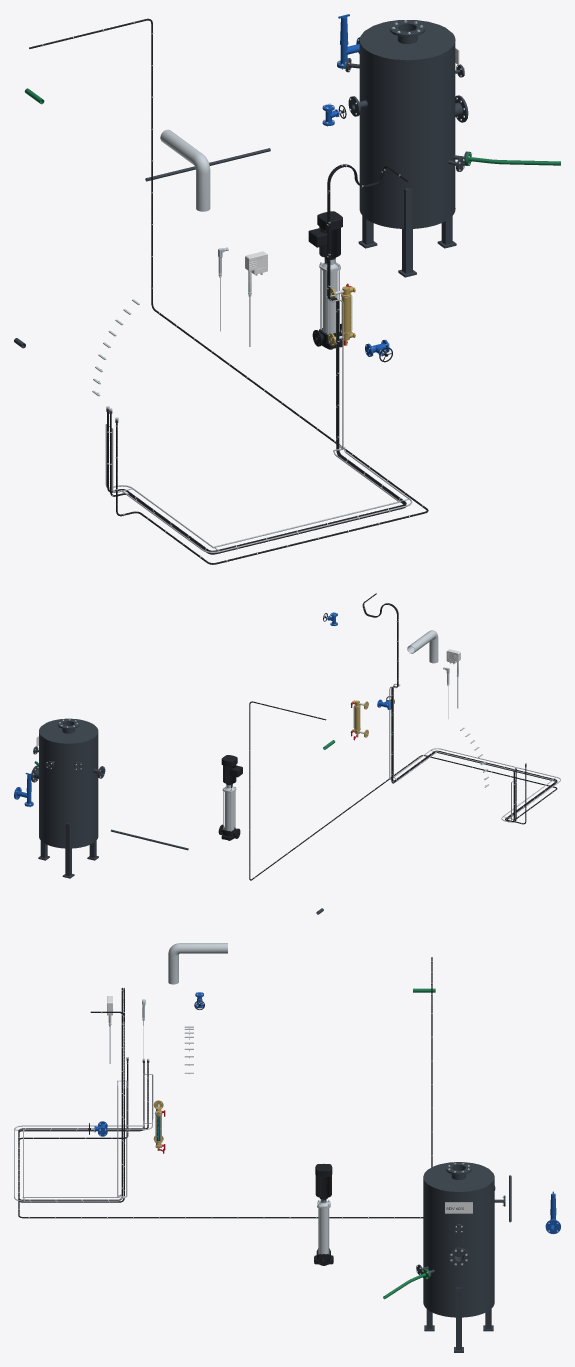
The picture shows the model from 3 angles, top to bottom: view 1: azimuth 30°, elevation 25°; view 2: azimuth 150°, elevation 25°; view 3: azimuth 270°, elevation 25°; orthographic projection. The views are drawn at different scales.
Visible parts, largest first — view 1: separator_bdv60_5 / dark, mod_direct_drive_cable / black, cables / zinc, wiring_pressure_switch_2 / black, wiring_pressure_switch_1 / black, steam_rise / steel, pump_2 CAD solid 15, sight_glasses_2 / sight_glasses_2_0.npz, pump_2 CAD solid 2; view 2: separator_bdv60_5 / dark, mod_direct_drive_cable / black, cables / zinc, wiring_pressure_switch_2 / black, wiring_pressure_switch_1 / black, steam_rise / steel, pump_2 CAD solid 15; view 3: separator_bdv60_5 / dark, cables / zinc, mod_direct_drive_cable / black, wiring_pressure_switch_2 / black, steam_rise / steel, wiring_pressure_switch_1 / black, pump_2 CAD solid 15.
Part boxes in pixels (x1,y1,x2,y2): separator_bdv60_5 / dark: (345,20,468,277); mod_direct_drive_cable / black: (29,18,428,564); cables / zinc: (105,295,412,553); wiring_pressure_switch_2 / black: (107,165,406,551); wiring_pressure_switch_1 / black: (110,164,407,554); steam_rise / steel: (160,129,210,211); pump_2 CAD solid 15: (308,211,342,258); sight_glasses_2 / sight_glasses_2_0.npz: (328,283,355,346); pump_2 CAD solid 2: (322,270,337,333); separator_bdv60_5 / dark: (31,718,105,878); mod_direct_drive_cable / black: (249,701,557,880); cables / zinc: (389,683,560,822); wiring_pressure_switch_2 / black: (363,600,557,821); wiring_pressure_switch_1 / black: (362,593,557,822); steam_rise / steel: (407,630,438,663); pump_2 CAD solid 15: (221,755,242,784); separator_bdv60_5 / dark: (416,1162,505,1352); cables / zinc: (14,1074,153,1201); mod_direct_drive_cable / black: (18,957,432,1218); wiring_pressure_switch_2 / black: (18,988,148,1200); steam_rise / steel: (168,943,227,984); wiring_pressure_switch_1 / black: (18,988,144,1202); pump_2 CAD solid 15: (315,1164,332,1198).
Bounding box in the file's own units: 5.7 × 2.97 × 5.87.
